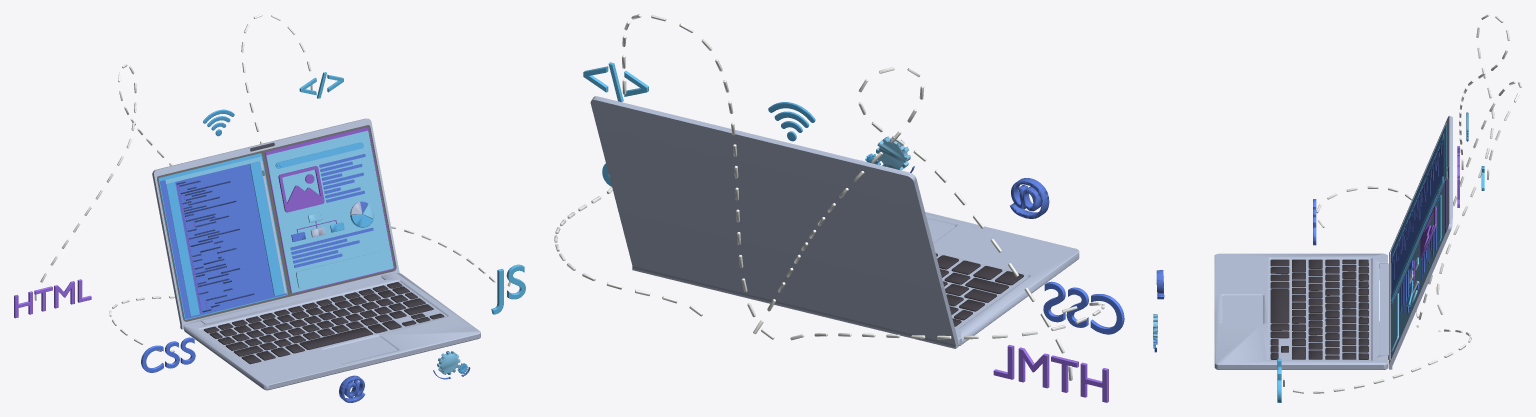
The model's file is web.glb.
The picture shows the model from 3 angles, left to right: view 1: azimuth 30°, elevation 25°; view 2: azimuth 150°, elevation 25°; view 3: azimuth 270°, elevation 25°; orthographic projection. The views are drawn at different scales.
Parts seen in each view (by area): view 1: </>_text.001_0, Gears_blue_0; view 2: </>_text.001_0, Gears_blue_0; view 3: </>_text.001_0, Gears_blue_0.
Part boxes in pixels (box(x1,y1,x2,y2)): </>_text.001_0: box(14, 14, 525, 402); Gears_blue_0: box(203, 109, 470, 379); </>_text.001_0: box(554, 14, 1124, 402); Gears_blue_0: box(768, 102, 914, 172); </>_text.001_0: box(1156, 14, 1521, 402); Gears_blue_0: box(1153, 112, 1468, 352).
Size of the model in its own units: 9.55 by 5.29 by 6.85.
Materials: 2 (2 with a texture image).
